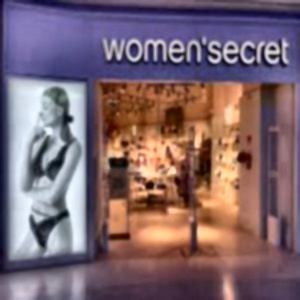women_secret: (201, 15, 300, 44)
